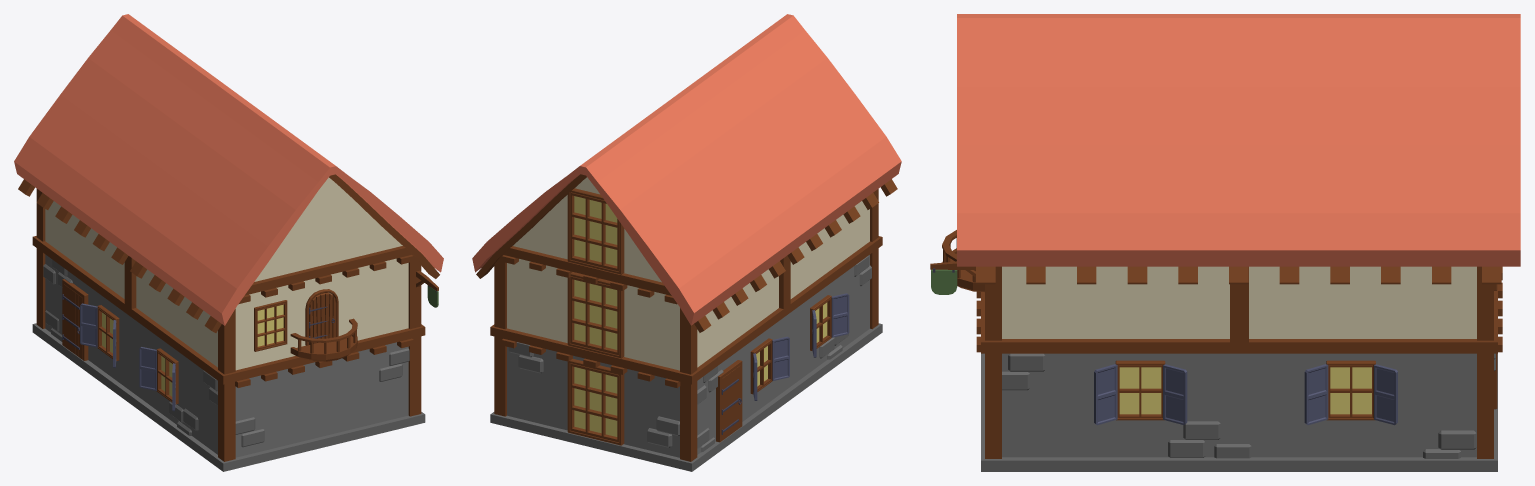
File: House_City_06.fbx
3 renders of one model, left to right at view 1: azimuth 30°, elevation 25°; view 2: azimuth 150°, elevation 25°; view 3: azimuth 270°, elevation 25°, orthographic. The views are drawn at different scales.
Parts seen in each view (by area): view 1: Roof_Short_Flat.003, Floor_0.006, Floor_Short.004, Window_4x4.019, Window_4x4.020, Door_Arch.003, Window_6x6.020, Balcony.003, Door_Rectangle.007; view 2: Roof_Short_Flat.003, Floor_0.006, Floor_Short.004, Window_6x6.017, Window_6x6.018, Window_6x6.019, Door_Rectangle.007, Window_4x4.020, Window_4x4.019; view 3: Roof_Short_Flat.003, Floor_0.006, Floor_Short.004, Window_4x4.018, Window_4x4.017, Cube.002, Balcony.003.
Boxes of the visible parts, bbox=[...] form: Roof_Short_Flat.003: bbox=[14, 14, 443, 332]; Floor_0.006: bbox=[32, 248, 425, 471]; Floor_Short.004: bbox=[32, 188, 425, 387]; Window_4x4.019: bbox=[139, 347, 178, 411]; Window_4x4.020: bbox=[80, 303, 119, 367]; Door_Arch.003: bbox=[305, 289, 338, 345]; Window_6x6.020: bbox=[254, 300, 287, 351]; Balcony.003: bbox=[290, 318, 357, 361]; Door_Rectangle.007: bbox=[62, 279, 88, 360]; Roof_Short_Flat.003: bbox=[472, 14, 901, 332]; Floor_0.006: bbox=[490, 248, 882, 471]; Floor_Short.004: bbox=[490, 189, 882, 387]; Window_6x6.017: bbox=[567, 359, 624, 445]; Window_6x6.018: bbox=[567, 272, 624, 358]; Window_6x6.019: bbox=[567, 188, 624, 274]; Door_Rectangle.007: bbox=[716, 360, 742, 442]; Window_4x4.020: bbox=[750, 336, 789, 400]; Window_4x4.019: bbox=[810, 293, 849, 357]; Roof_Short_Flat.003: bbox=[957, 14, 1520, 284]; Floor_0.006: bbox=[981, 353, 1497, 471]; Floor_Short.004: bbox=[976, 266, 1502, 353]; Window_4x4.018: bbox=[1094, 360, 1187, 425]; Window_4x4.017: bbox=[1304, 360, 1397, 425]; Cube.002: bbox=[930, 261, 975, 294]; Balcony.003: bbox=[942, 230, 984, 292].
Bounding box in the file's own units: 713 × 857 × 1176.
